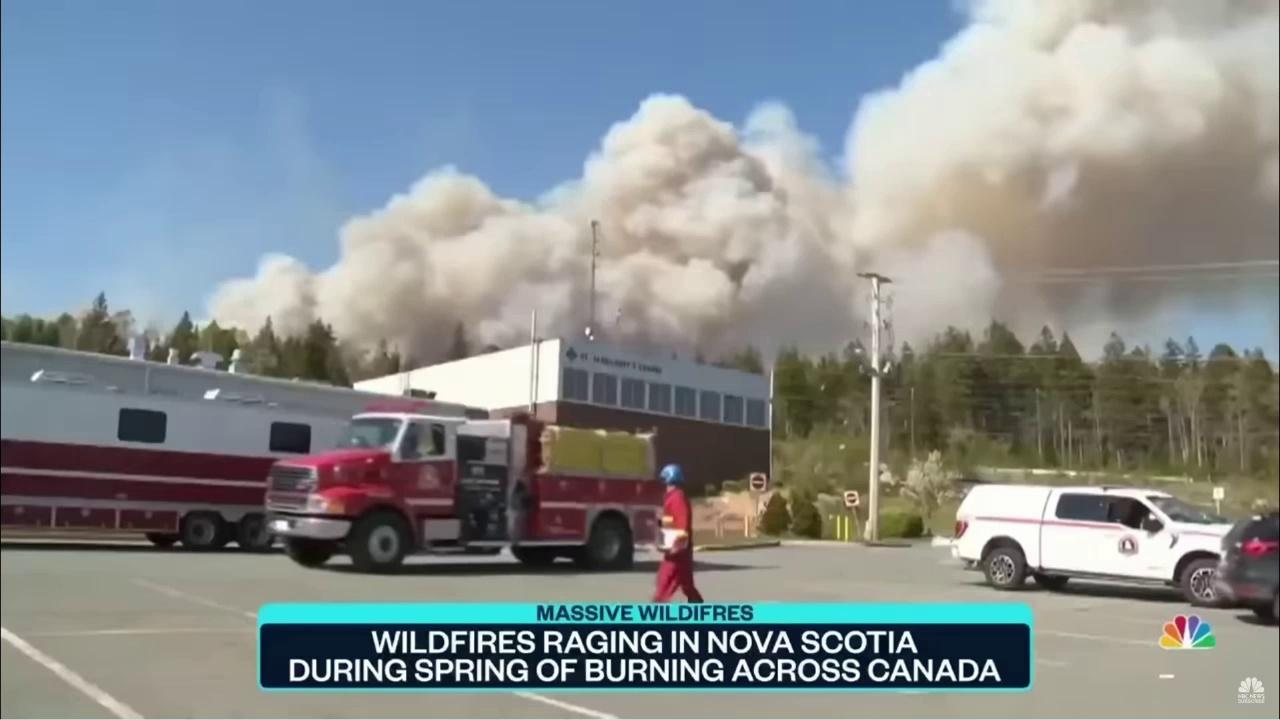smoke: (186, 0, 1280, 374)
